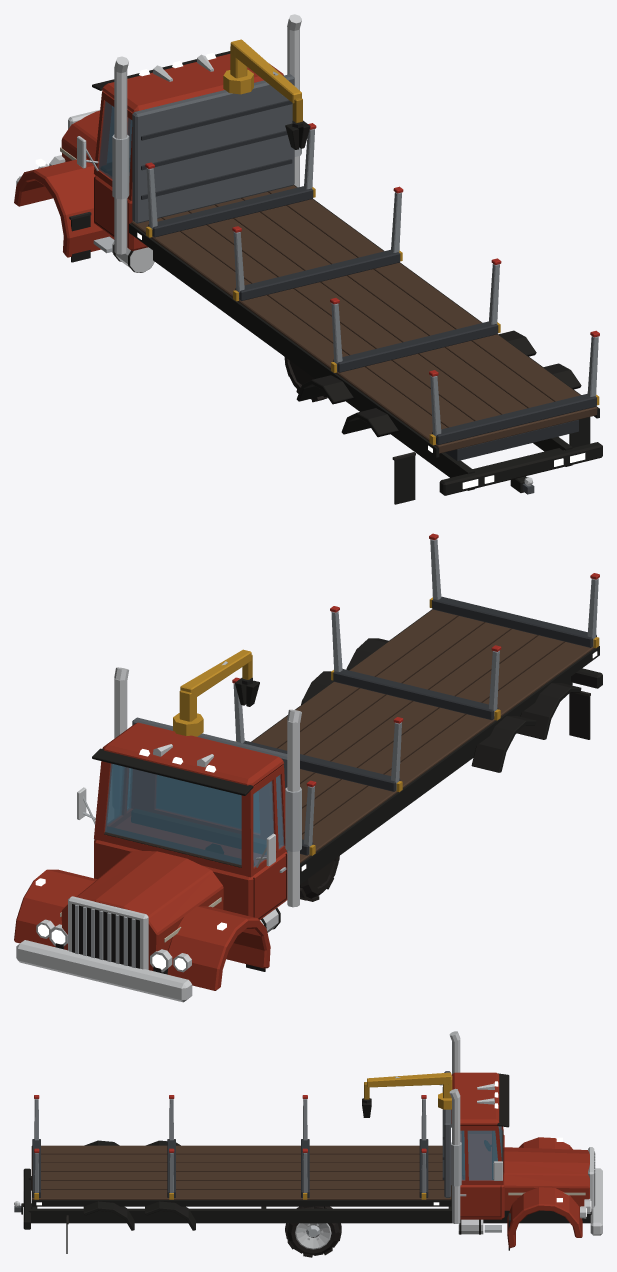
File: LoggingRig.glb
3 views of the same model, one above another, from view 1: azimuth 30°, elevation 25°; view 2: azimuth 150°, elevation 25°; view 3: azimuth 270°, elevation 25° (orthographic). The views are drawn at different scales.
Parts seen in each view (by area): view 1: Bed, Body, Glass, Lights; view 2: Body, Bed, Glass, Lights, Wheel; view 3: Bed, Body, Glass, Wheel.
Part boxes in pixels (x1,y1,x2,y2): Bed: (129,74,599,457); Body: (14,14,602,504); Glass: (83,101,132,182); Lights: (35,53,585,489); Body: (14,638,602,1002); Bed: (132,533,599,874); Glass: (105,763,284,867); Lights: (35,651,597,970); Wheel: (300,856,339,901); Bed: (31,1071,451,1206); Body: (23,1031,602,1253); Glass: (460,1126,502,1180); Wheel: (285,1206,341,1257).
Bounding box in the file's own units: 12.91 × 17.25 × 47.45.
